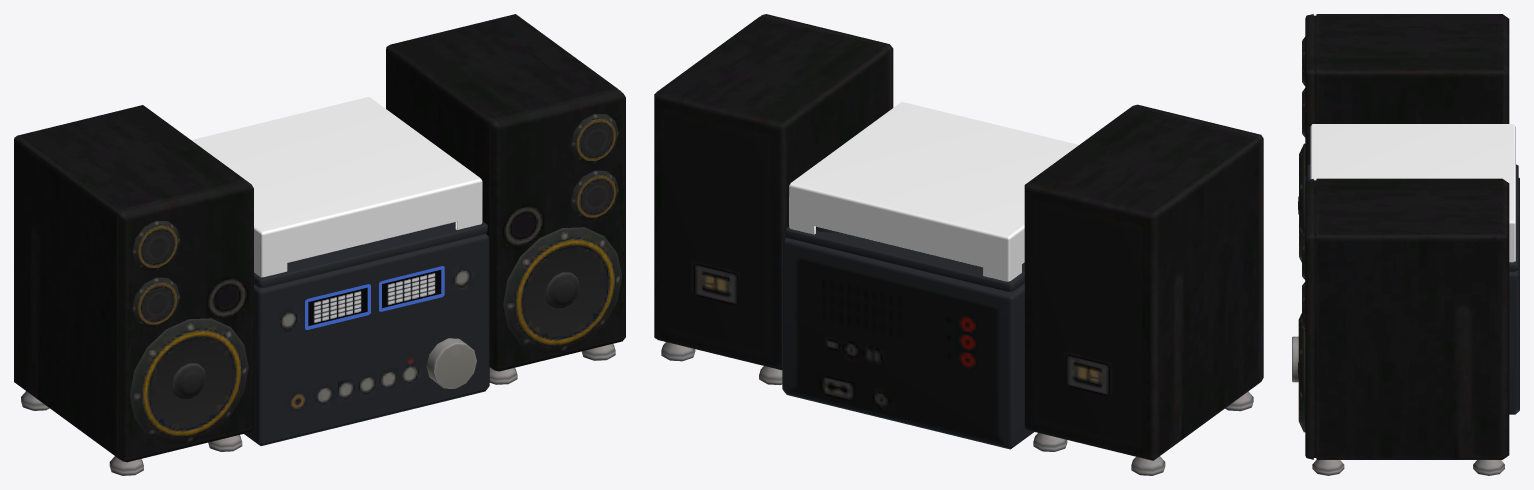
The model's file is FtrComponentPro.glb.
3 renders of one model, left to right at view 1: azimuth 30°, elevation 25°; view 2: azimuth 150°, elevation 25°; view 3: azimuth 270°, elevation 25°, orthographic. The views are drawn at different scales.
Visible parts, largest first — view 1: Host__mBody, transparent__mGlass, equalizer__mEqualizer, equalizer__mBody; view 2: Host__mBody, transparent__mGlass; view 3: Host__mBody, transparent__mGlass.
Boxes of the visible parts, left/top/right/bottom form: Host__mBody: left=14, top=14, right=625, bottom=475; transparent__mGlass: left=191, top=97, right=482, bottom=277; equalizer__mEqualizer: left=308, top=270, right=441, bottom=325; equalizer__mBody: left=305, top=266, right=444, bottom=329; Host__mBody: left=654, top=14, right=1263, bottom=475; transparent__mGlass: left=789, top=102, right=1078, bottom=281; Host__mBody: left=1292, top=14, right=1519, bottom=475; transparent__mGlass: left=1310, top=124, right=1515, bottom=262.
Size of the model in its own units: 16 by 8.07 by 6.9.
4 materials, 3 textured.
